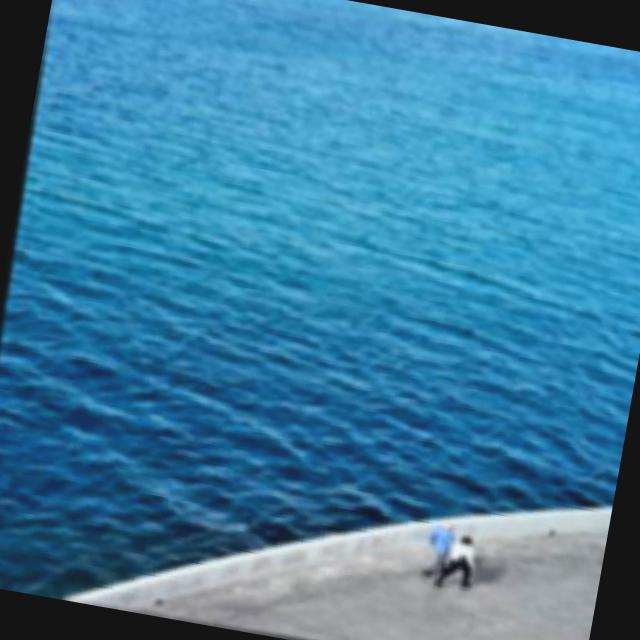Person: (410, 509, 456, 586), (437, 523, 487, 592)
